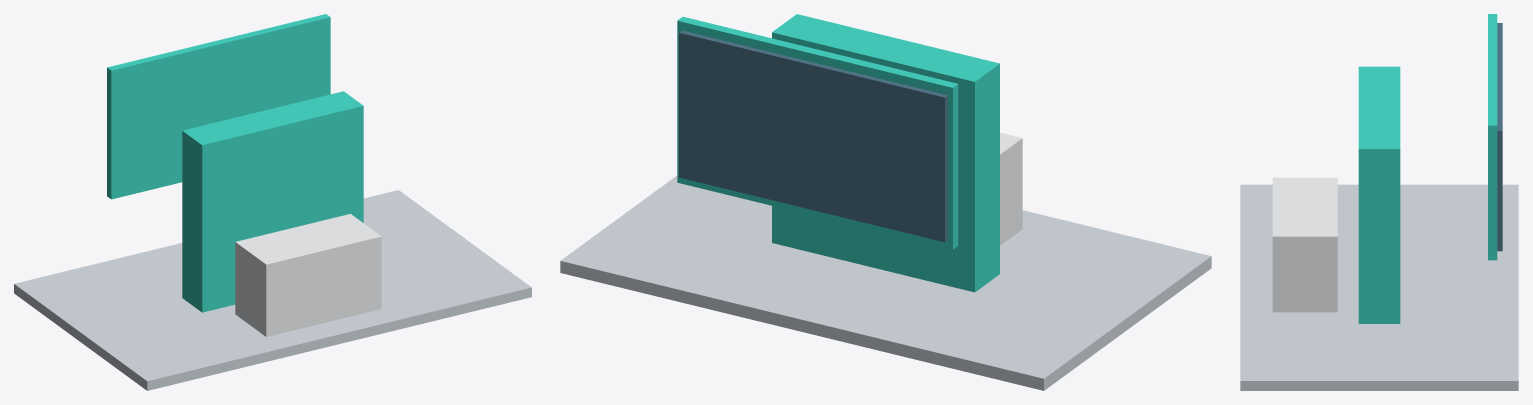
3 renders of one model, left to right at view 1: azimuth 30°, elevation 25°; view 2: azimuth 150°, elevation 25°; view 3: azimuth 270°, elevation 25°, orthographic. The views are drawn at different scales.
Visible parts, largest first — view 1: Exhibition Booth Concept; view 2: Exhibition Booth Concept; view 3: Exhibition Booth Concept.
Boxes of the visible parts, x1,y1,x2,y2 form: Exhibition Booth Concept: [14, 14, 531, 390]; Exhibition Booth Concept: [560, 14, 1211, 390]; Exhibition Booth Concept: [1240, 14, 1518, 390].
Size of the model in its own units: 5 by 2.65 by 3.
